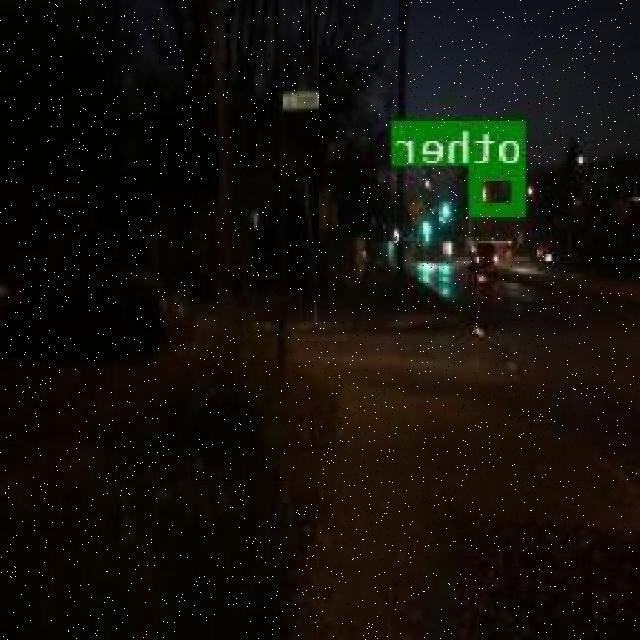other: (474, 165, 528, 212)
